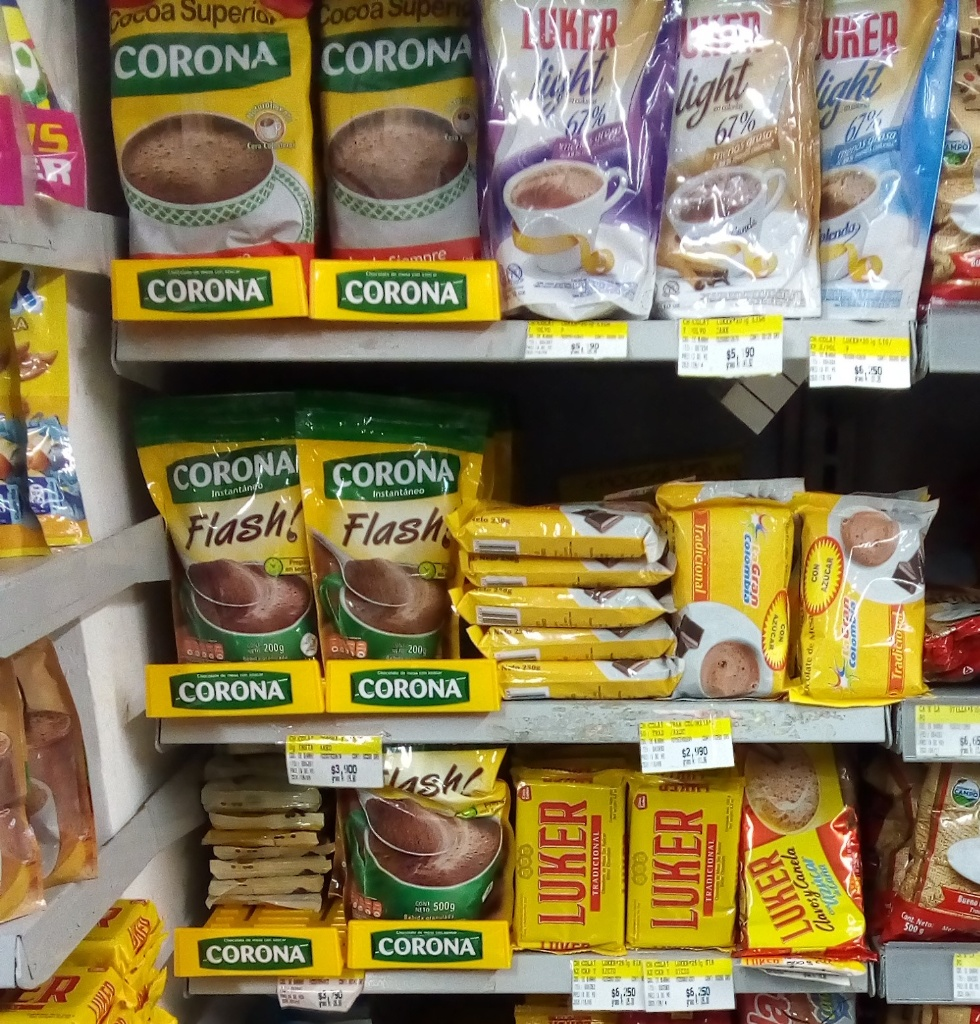COL0170306DYP20000: (9, 264, 89, 544)
